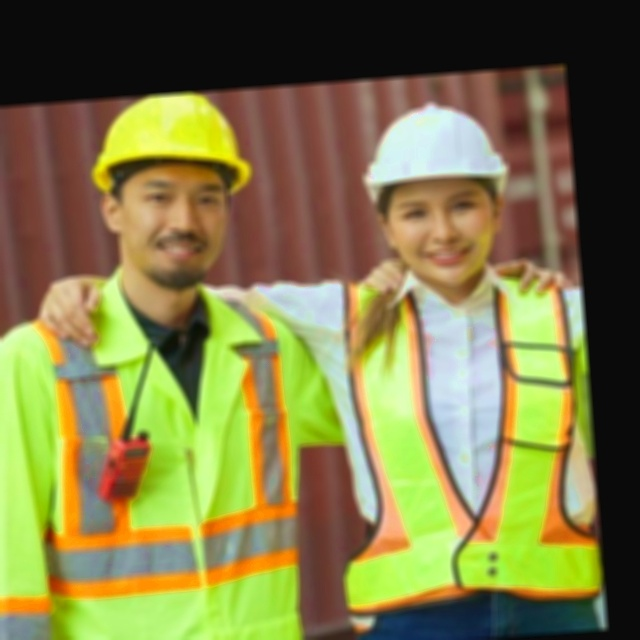Con_Casco: (91, 89, 256, 294), (355, 97, 518, 286)
Con_Chaleco: (0, 280, 314, 638), (317, 259, 605, 626)
